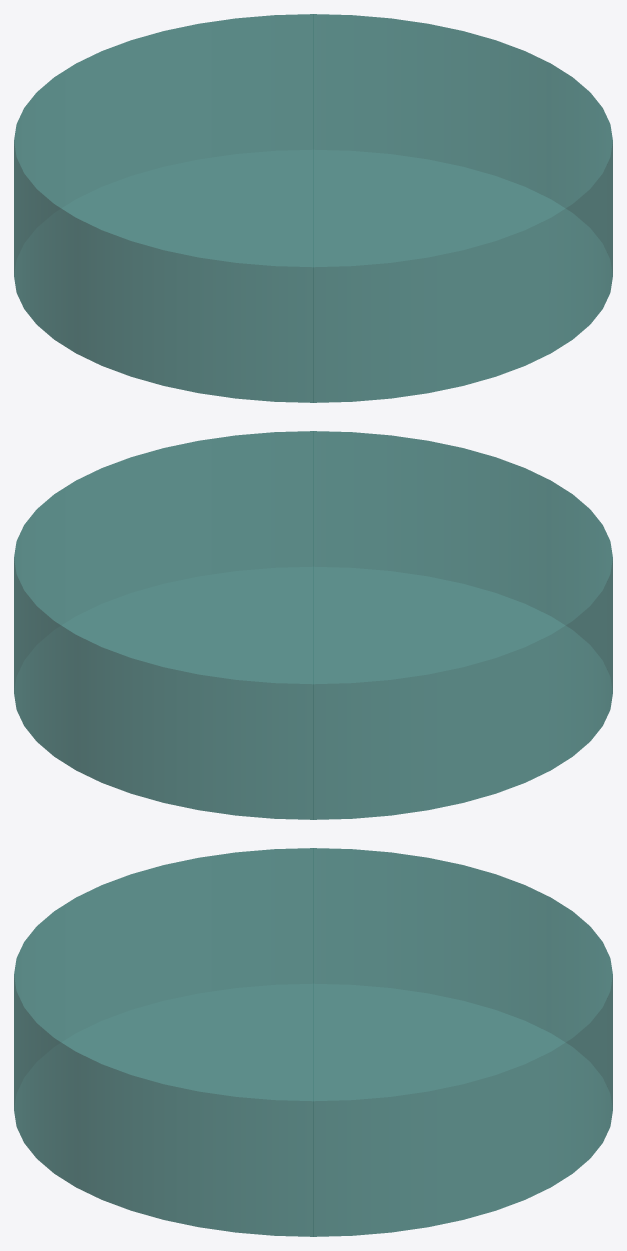
The model's file is water_cylinder.glb.
3 views of the same model, one above another, from view 1: azimuth 30°, elevation 25°; view 2: azimuth 150°, elevation 25°; view 3: azimuth 270°, elevation 25° (orthographic).
Parts seen in each view (by area): view 1: water_cylinder; view 2: water_cylinder; view 3: water_cylinder.
Part boxes in pixels (<box>): water_cylinder: <box>14,14,612,402</box>; water_cylinder: <box>14,431,612,819</box>; water_cylinder: <box>14,848,612,1236</box>.
Size of the model in its own units: 8 by 2 by 8.
